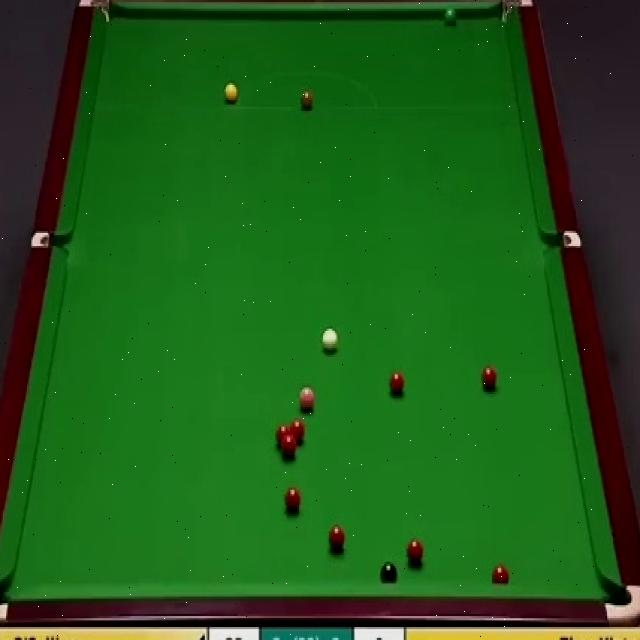black-ball: (380, 560, 398, 584)
brown-ball: (300, 87, 313, 109)
green-ball: (444, 4, 455, 24)
pink-ball: (300, 384, 316, 412)
red-ball: (284, 482, 303, 514), (328, 524, 346, 554), (406, 540, 425, 568), (388, 372, 406, 398), (275, 424, 291, 452), (481, 366, 496, 392), (490, 563, 510, 582), (291, 420, 305, 446), (282, 438, 298, 459)
white-ball: (321, 326, 338, 350)
yellow-ball: (223, 85, 237, 103)
